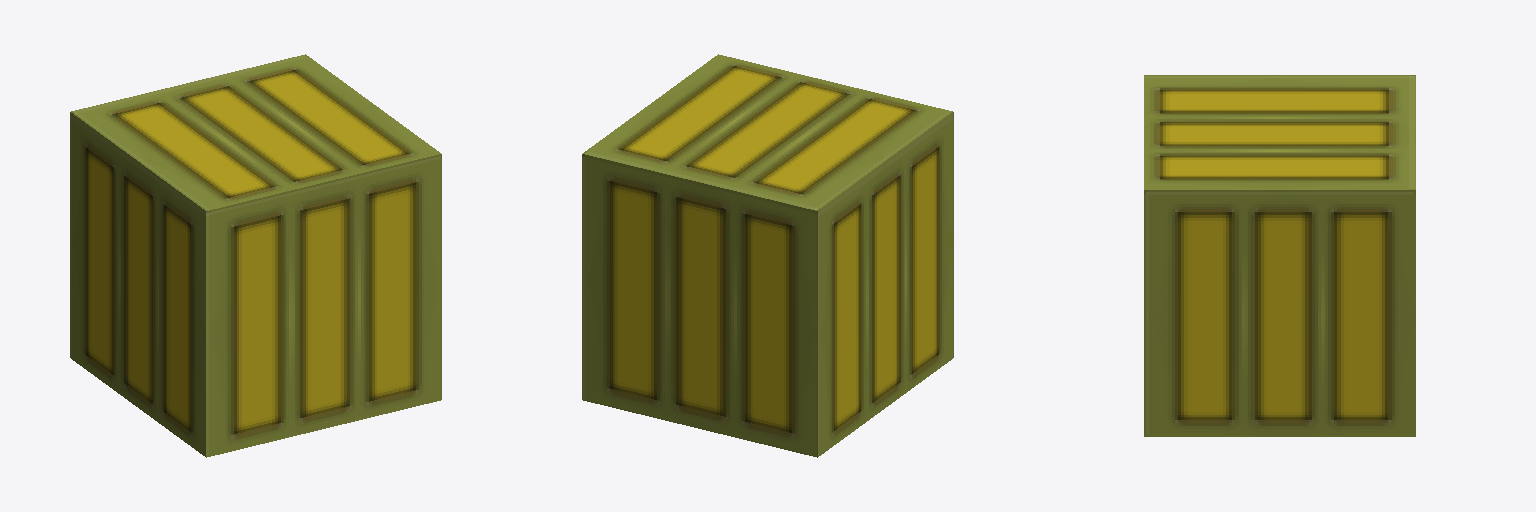
3 views of the same model, side by side, from view 1: azimuth 30°, elevation 25°; view 2: azimuth 150°, elevation 25°; view 3: azimuth 270°, elevation 25° (orthographic).
Parts seen in each view (by area): view 1: Cube1; view 2: Cube1; view 3: Cube1.
Part boxes in pixels (x1,y1,x2,y2): Cube1: (70, 54, 441, 457); Cube1: (582, 54, 953, 457); Cube1: (1144, 75, 1415, 436).
Bounding box in the file's own units: 2 × 2 × 2.
Materials: 1 (1 with a texture image).